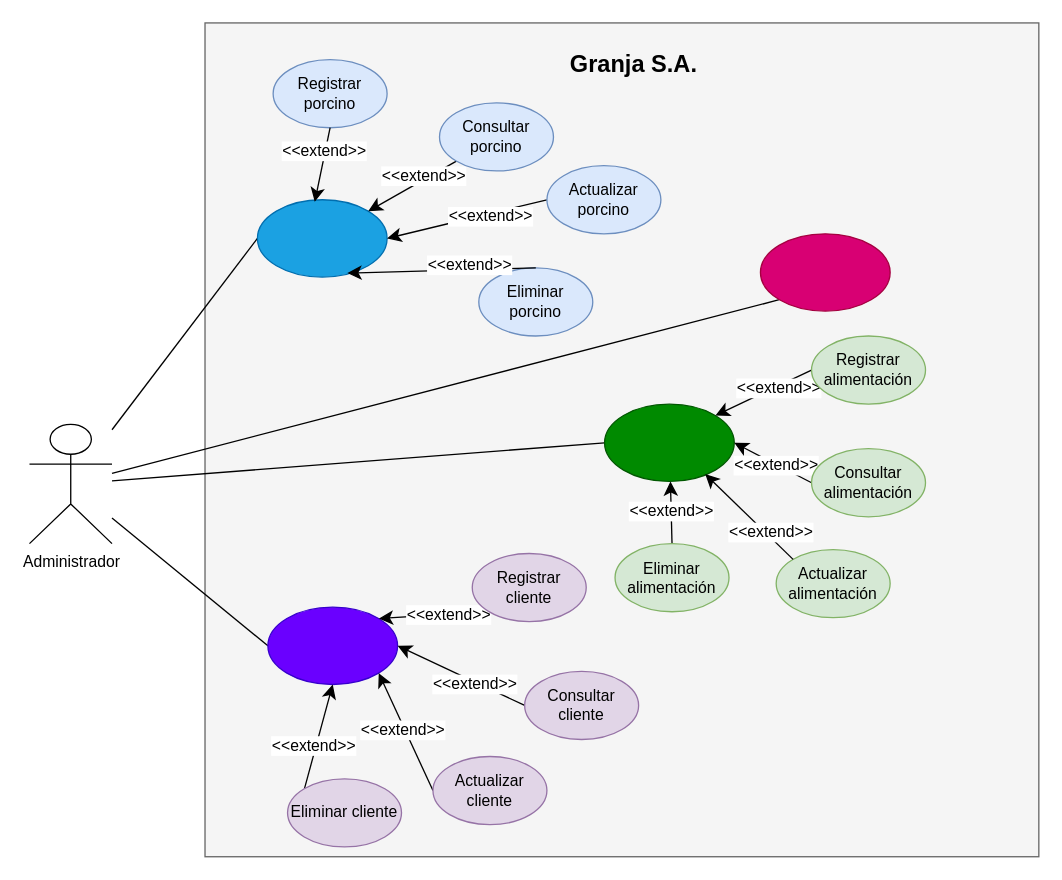
The diagram is 1062 pixels wide and 880 high, and some of its shapes have lost their labels. Each missing label, with the centre of its shape:
Generar informe: the point at 824,272
Gestionar Alimentación: the point at 668,442
Gestionar clientes: the point at 332,645
Gestionar porcinos: the point at 321,237
